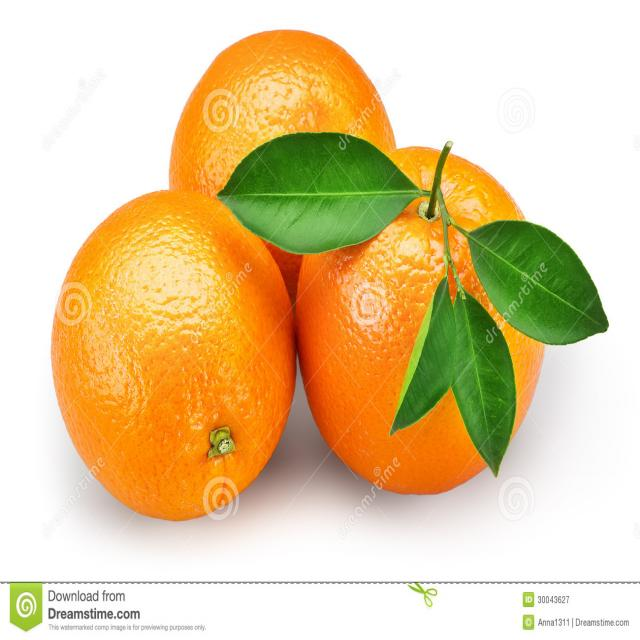orange: (51, 30, 585, 528)
